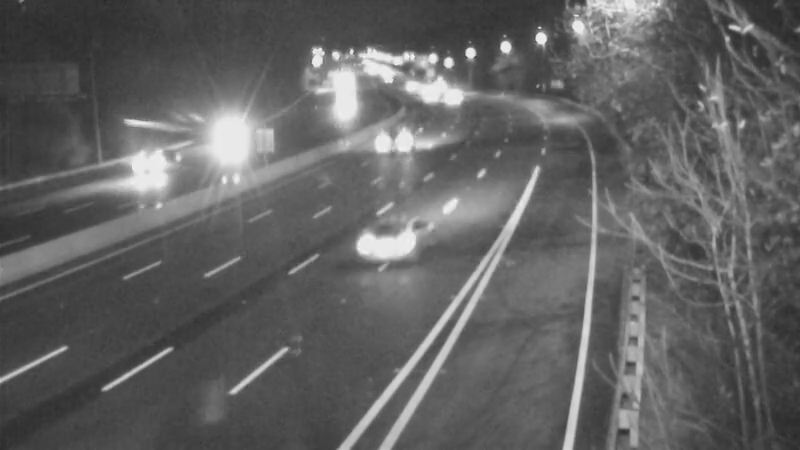vehicle: (344, 201, 424, 281), (114, 123, 194, 203), (383, 59, 433, 109), (404, 70, 454, 120), (429, 73, 479, 123), (371, 113, 421, 163), (219, 107, 269, 157), (317, 76, 367, 126)
